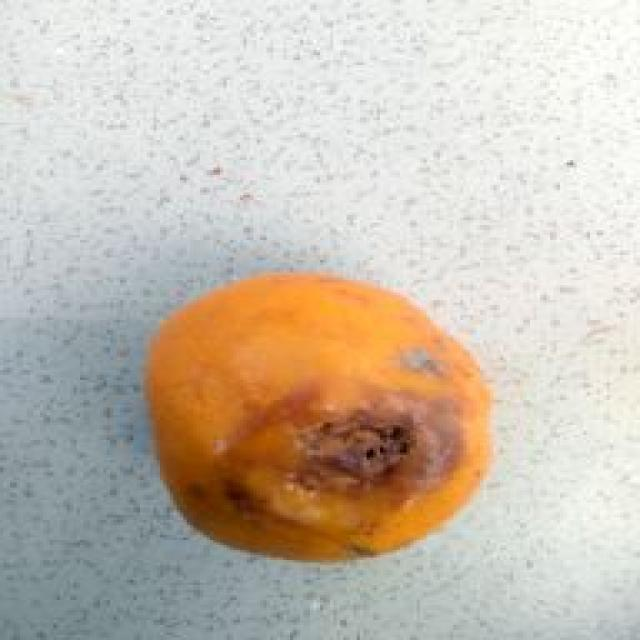Bad_Orange: (147, 274, 490, 559)
